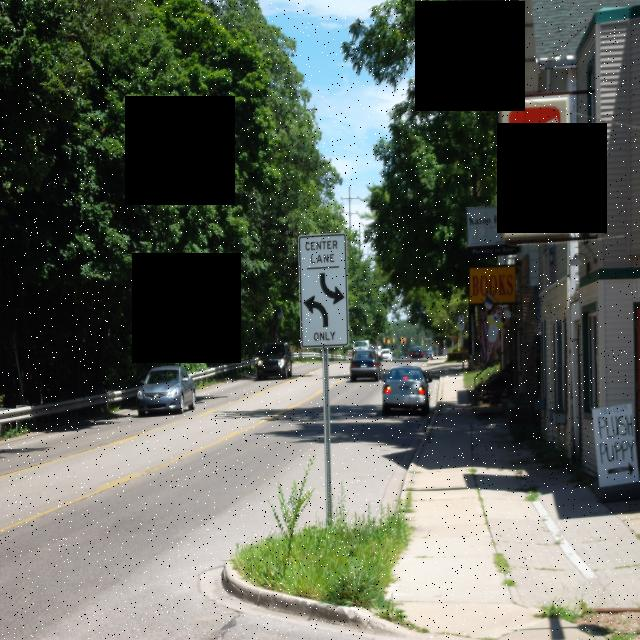regulatory: (298, 226, 352, 354)
